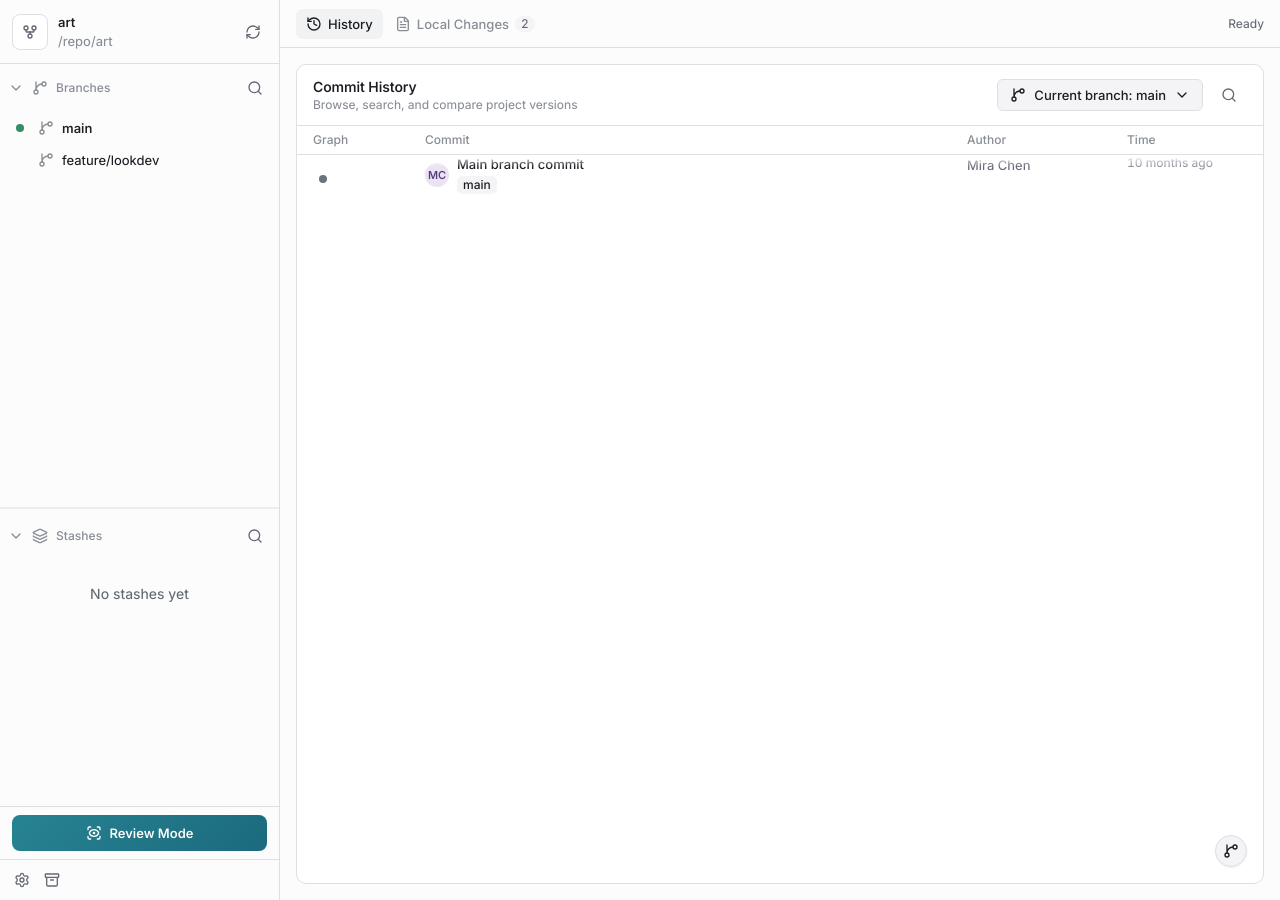
RepositoryShell loading state › filters history to the branch selected in the sidebar
The image size is (1280, 900).
Expected: the text "Main branch commit" is shown, [457,156,584,172]
Expected: the text "Feature branch commit" is not shown
Click the button "feature/lookdev": (140, 160) [8,144,271,176]
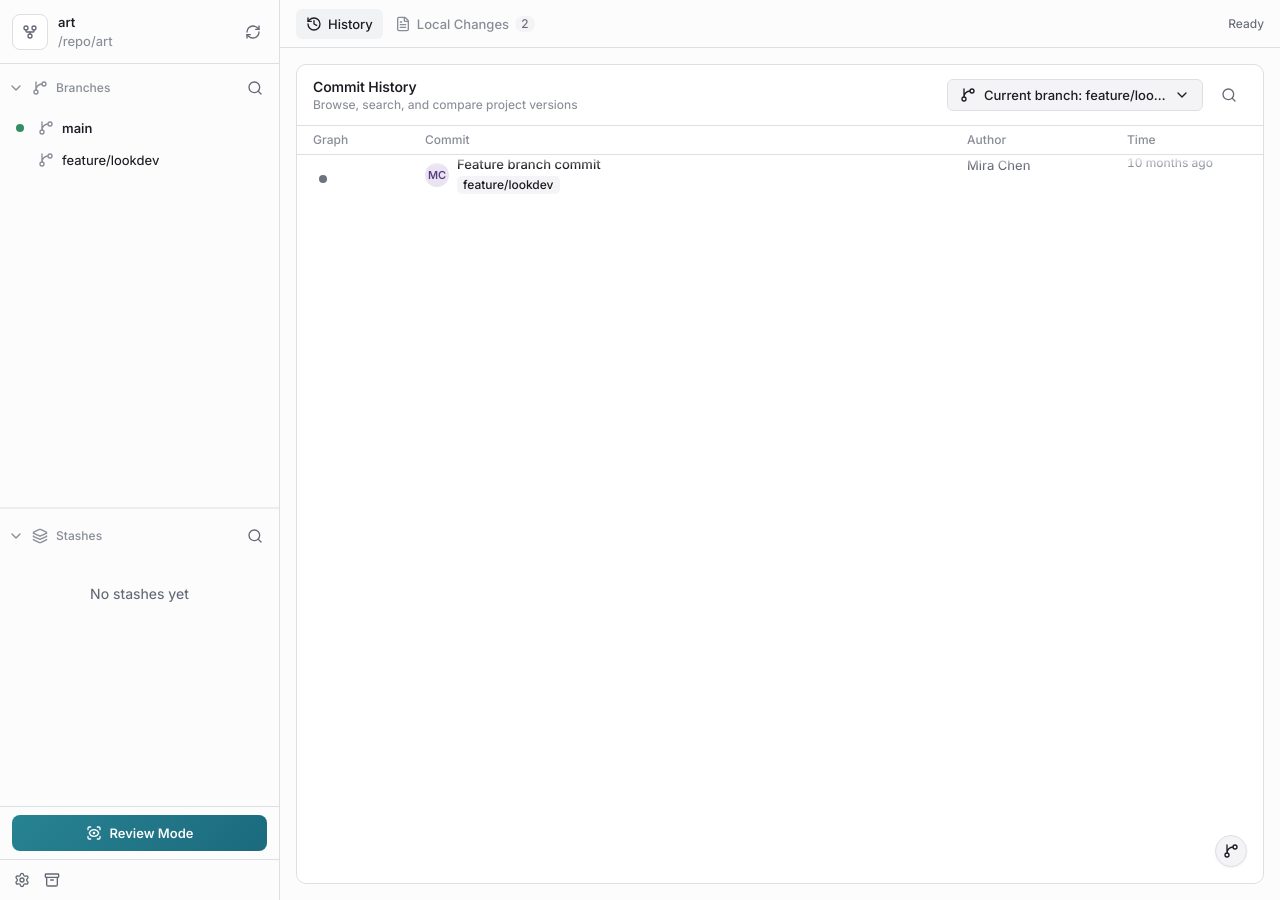
Expected: the button "Current branch: feature/lookdev" is shown, [947,79,1203,111]
Expected: the text "Feature branch commit" is shown, [457,156,601,172]
Expected: the button "Main branch commit" is gone
